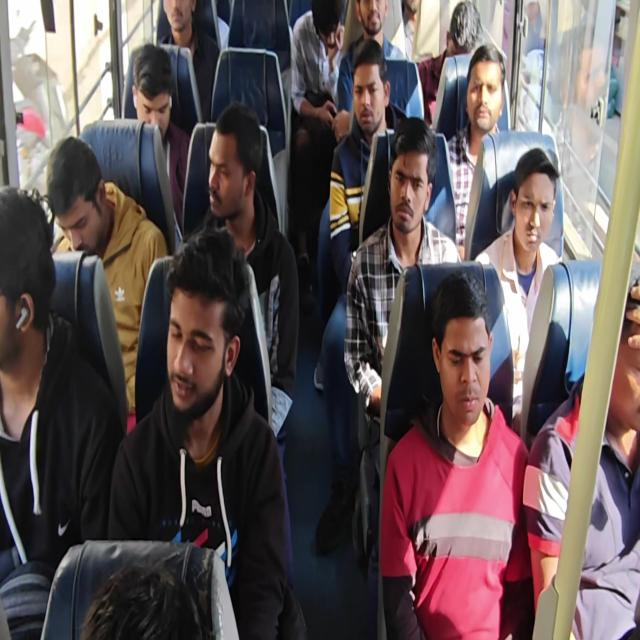person: (153, 236, 248, 408), (435, 287, 503, 432), (0, 189, 50, 365), (38, 131, 112, 249), (597, 275, 640, 431), (506, 144, 557, 270), (199, 112, 259, 219), (373, 138, 432, 234), (128, 38, 174, 142), (459, 49, 500, 132), (296, 6, 346, 62), (441, 0, 481, 66), (354, 62, 389, 128), (352, 0, 391, 46), (149, 0, 194, 36)
